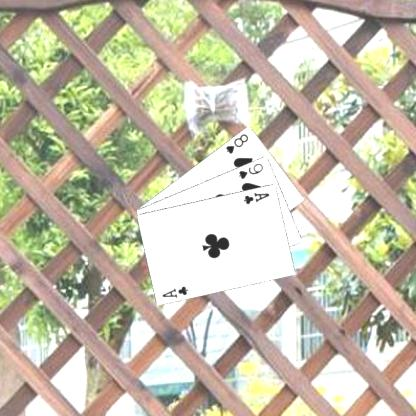8S: (222, 131, 250, 155)
9S: (235, 160, 264, 180)
AC: (241, 189, 271, 206), (160, 283, 190, 299)
